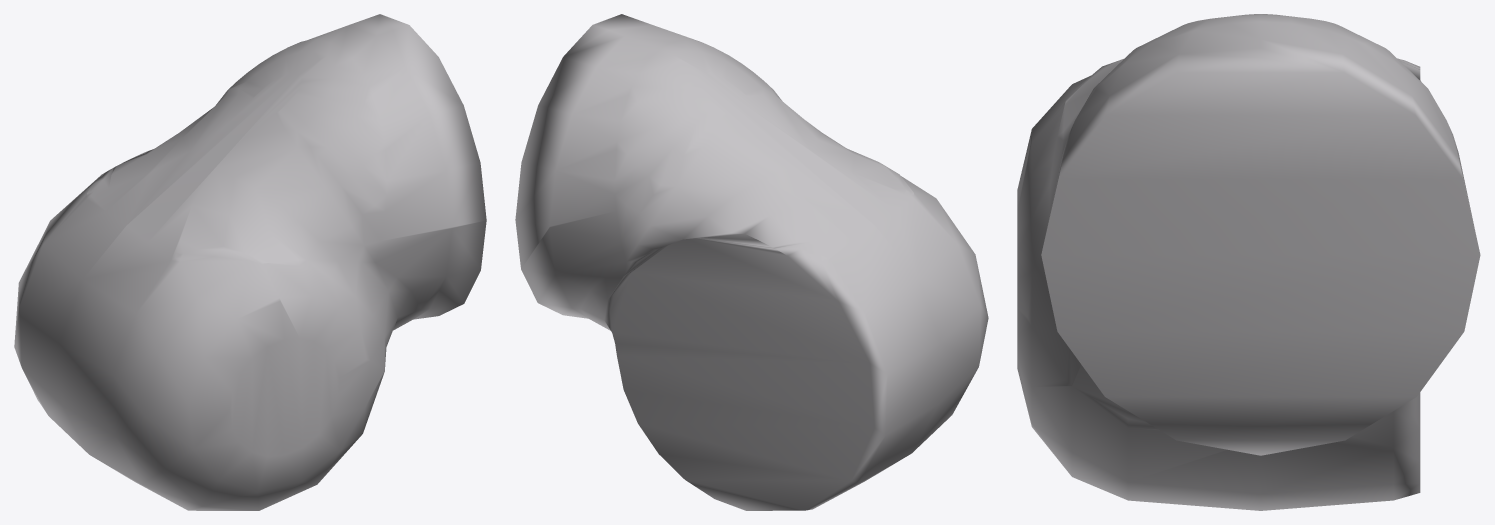
File: Left_Elbow.dae
3 renders of one model, left to right at view 1: azimuth 30°, elevation 25°; view 2: azimuth 150°, elevation 25°; view 3: azimuth 270°, elevation 25°, orthographic. The views are drawn at different scales.
Visible parts, largest first — view 1: Mesh; view 2: Mesh; view 3: Mesh.
Boxes of the visible parts, <box> form: Mesh: <box>14,14,486,510</box>; Mesh: <box>515,14,988,510</box>; Mesh: <box>1017,14,1480,510</box>.
Size of the model in its own units: 0.1646 by 0.1829 by 0.1329.
1 material, 1 textured.
